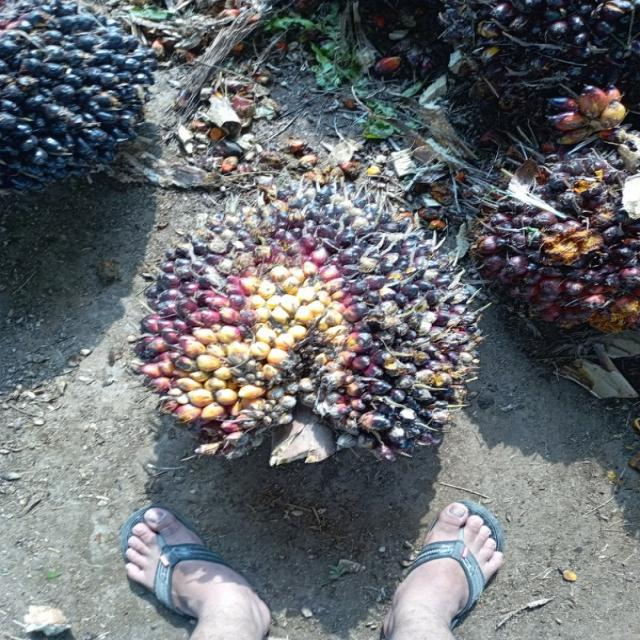fraksi 00: (139, 195, 474, 452), (3, 0, 171, 195)
